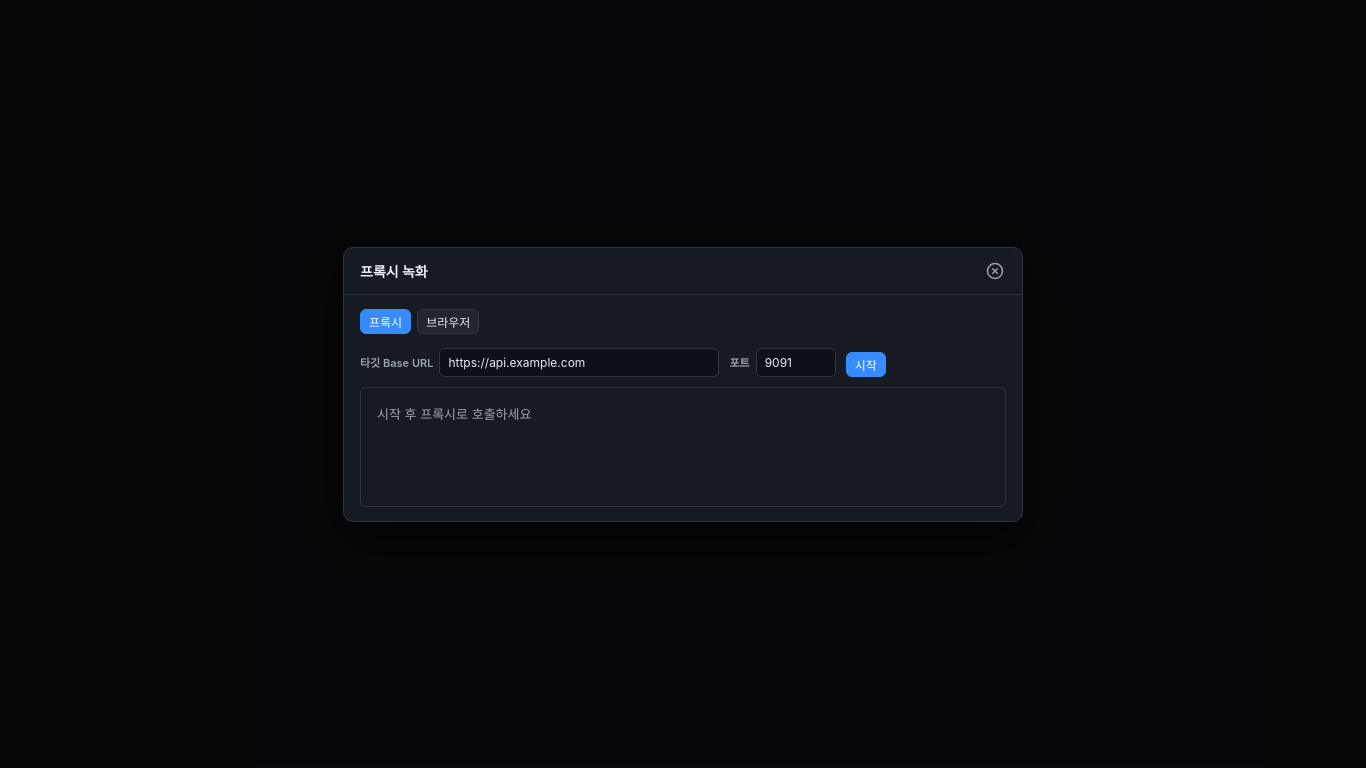
Test case: ProxyModal 추가 동작 › 기타 시작 실패는 '시작 실패' 메시지
Click the button "시작" at (866, 364), box [846,352,886,376]
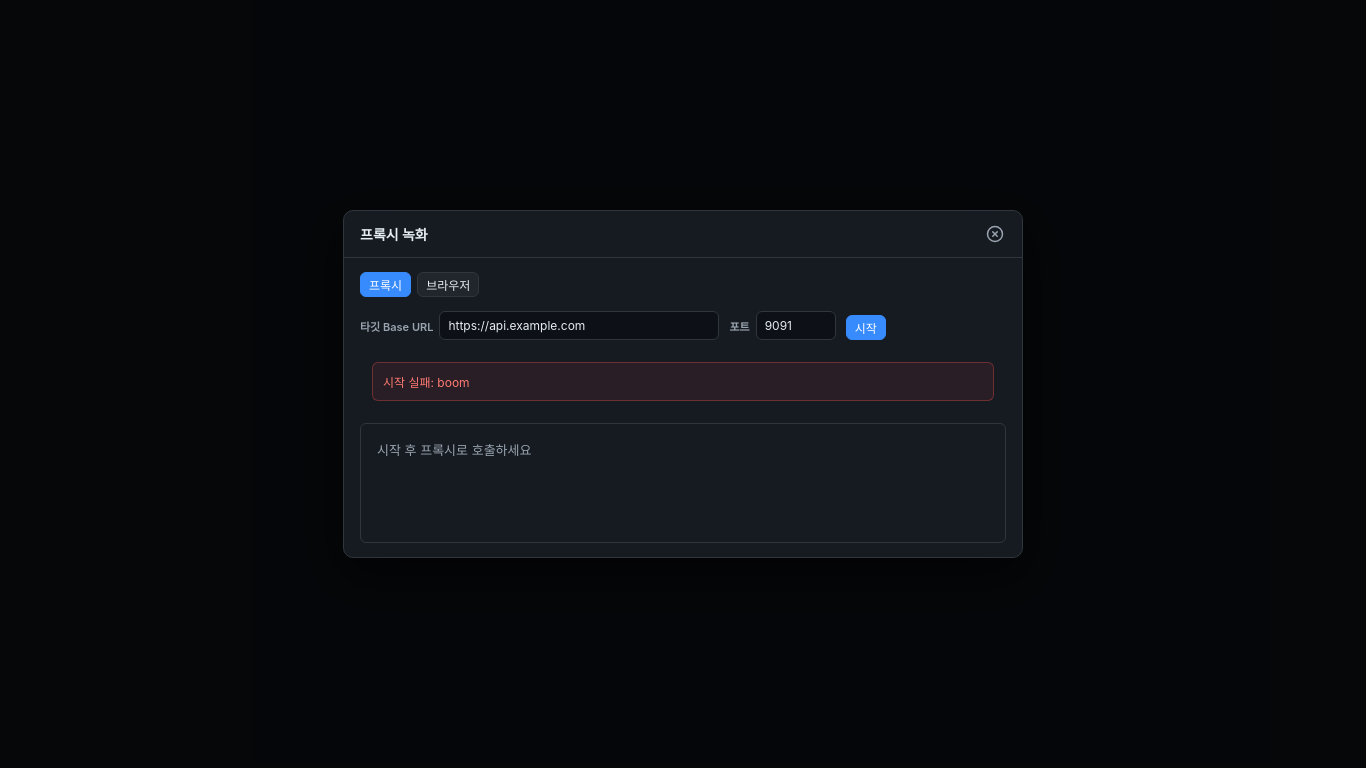
Expected: the text "시작 실패: boom" is shown, [372,362,994,401]
